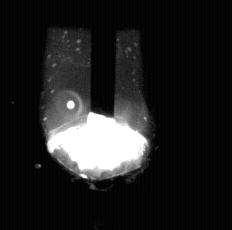arame: (92, 0, 116, 119)
poca: (47, 0, 149, 230)
